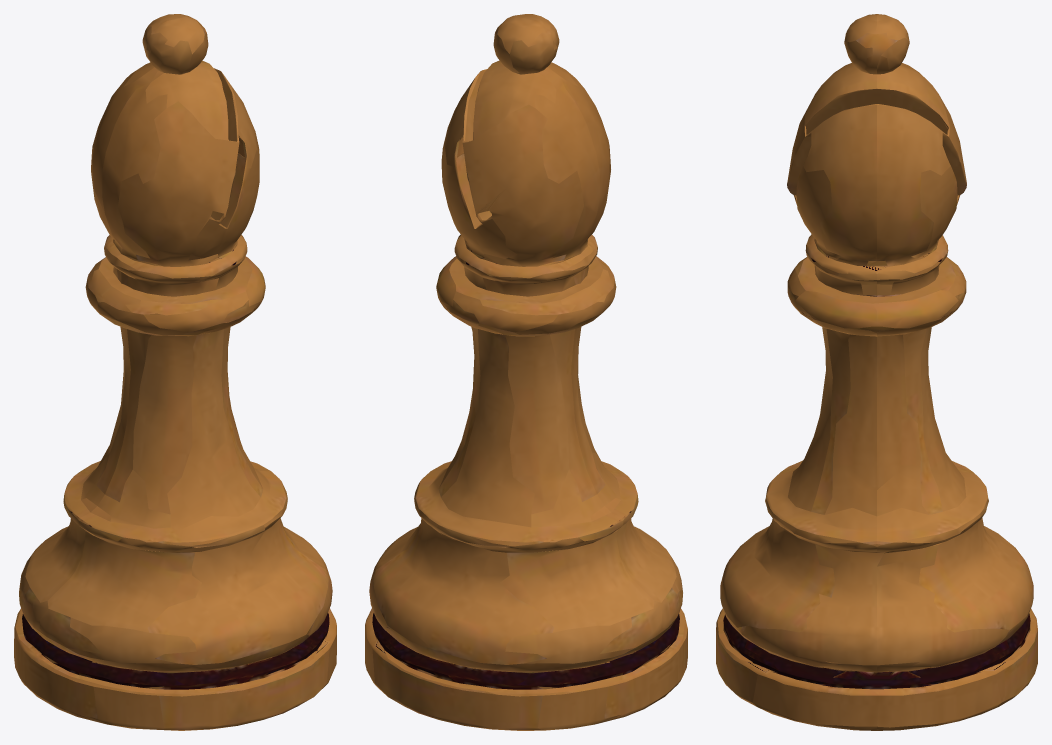
The model's file is white-bishop.glb.
3 views of the same model, side by side, from view 1: azimuth 30°, elevation 25°; view 2: azimuth 150°, elevation 25°; view 3: azimuth 270°, elevation 25° (orthographic).
Visible parts, largest first — view 1: world; view 2: world; view 3: world.
Part boxes in pixels (x1=…): world: x1=14, y1=14, x2=336, y2=730; world: x1=365, y1=14, x2=687, y2=730; world: x1=716, y1=14, x2=1037, y2=730.
Bounding box in the file's own units: 0.4531 × 1 × 0.4523.
Materials: 1 (1 with a texture image).
